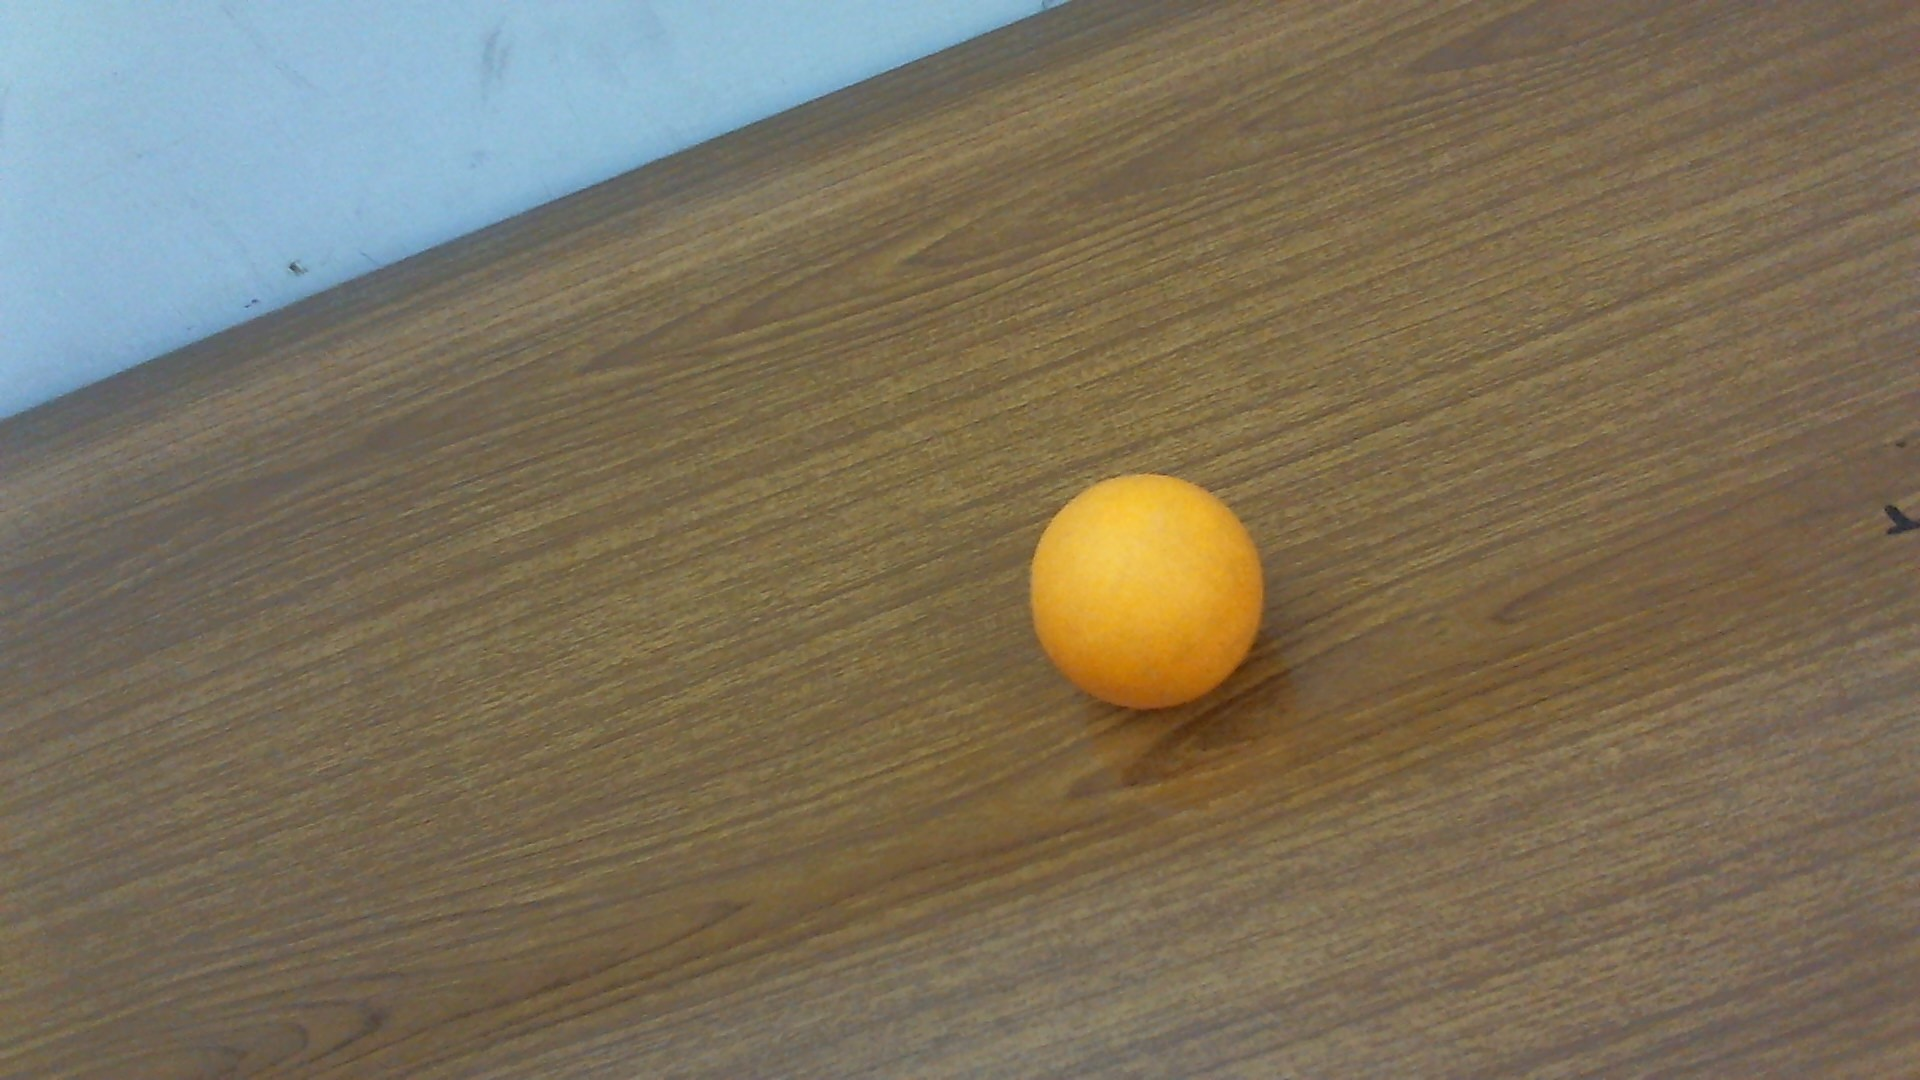ball: (1025, 473, 1269, 708)
